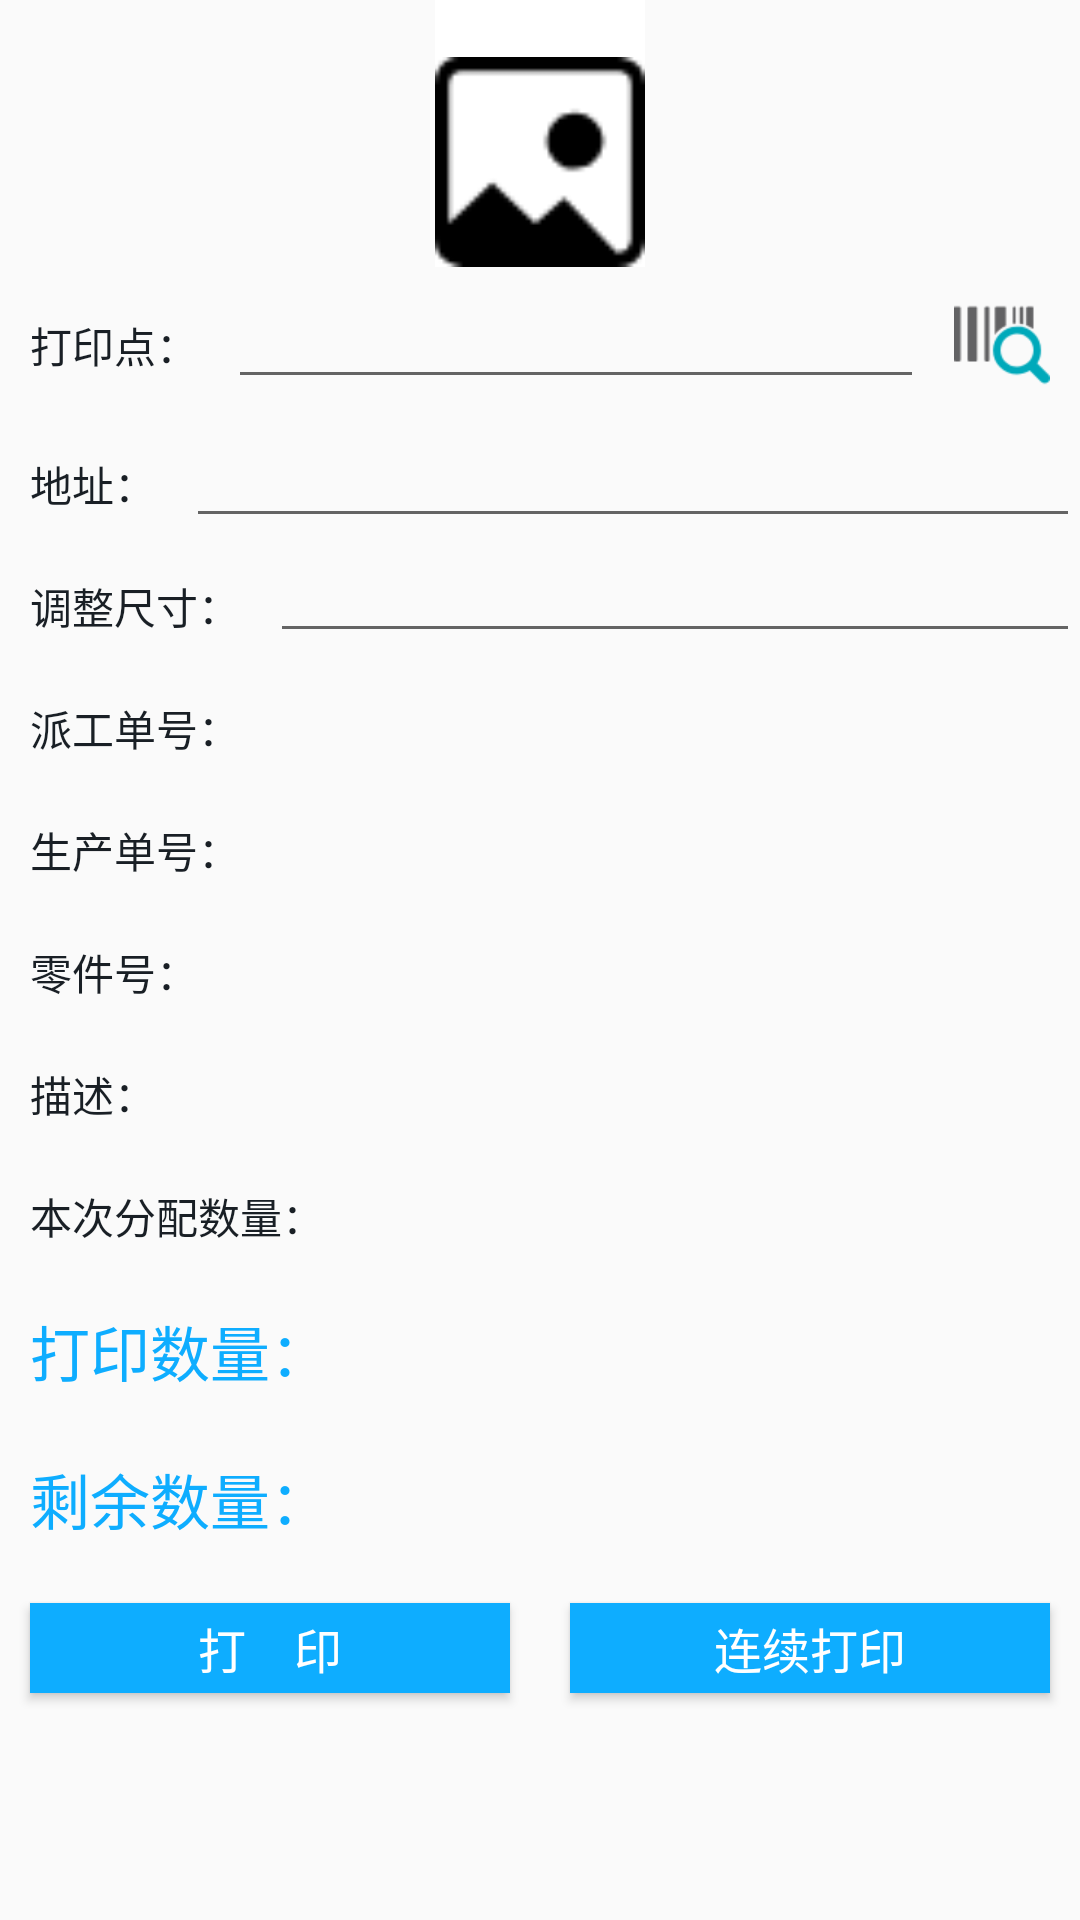

Icons on this 1080px x 1920px Android screen, each with its box as (x1, y1, x2, y2):
defaultpic: (435, 57, 645, 267)
scan: (954, 306, 1050, 384)
